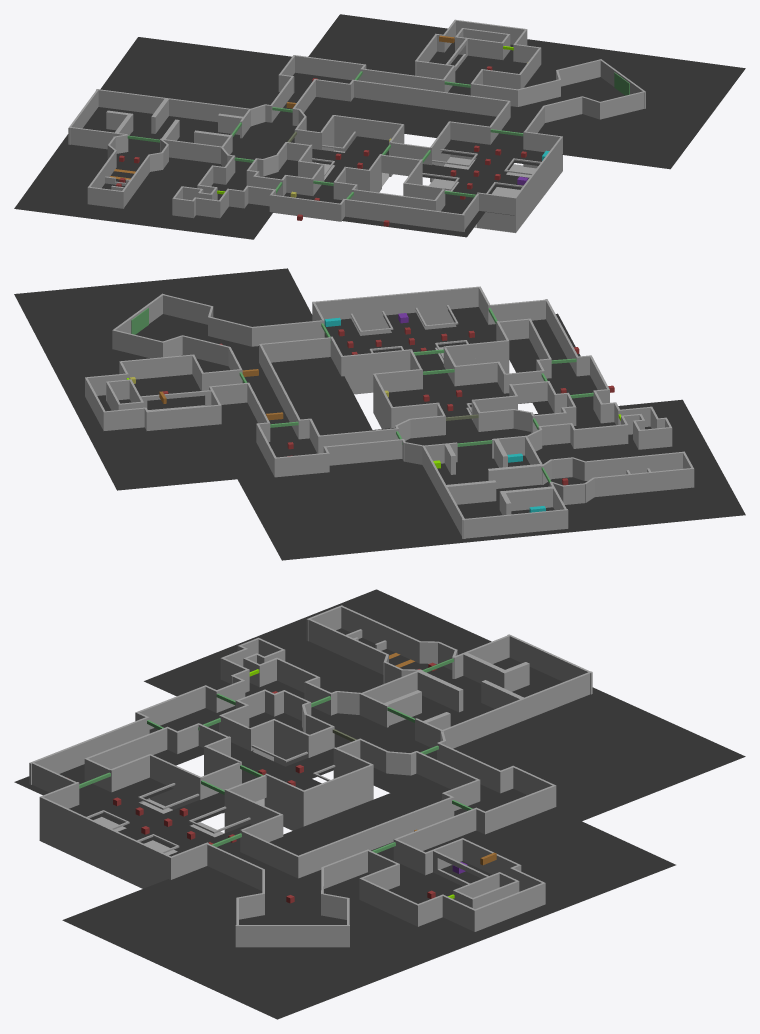
File: LV1_BLOCKOUT.fbx
3 views of the same model, one above another, from view 1: azimuth 30°, elevation 25°; view 2: azimuth 150°, elevation 25°; view 3: azimuth 270°, elevation 25° (orthographic). The views are drawn at different scales.
Visible parts, largest first — view 1: Floor2, Floor1, Floor_Room4_Up, Wall_Hallway20, Wall_Wharehouse4, Wall_Hallway9, Wall_Room4_6, Floor_Room3_Up, Wall_Room3_7, Floor3, Wall_Room2_3, Wall_Room4_5 (+42 smaller); view 2: Floor2, Floor1, Floor_Room4_Up, Wall_Room4_6, Floor3, Wall_Wharehouse3, Floor_Room3_Up, Wall_Tutorial1, Wall_Room4_2, Wall_Tutorial2, Wall_Hallway6, Wall_Room6_6 (+36 smaller); view 3: Floor2, Floor1, Wall_Room4_6, Floor_Room4_Up, Wall_Hallway20, Wall_Wharehouse4, Wall_Exit_Room_5, Wall_Room3_7, Floor3, Wall_Hallway9, Wall_Tutorial2, Wall_Tutorial1 (+37 smaller).
Boxes of the visible parts, <box> form: Floor2: <box>277,14,745,169</box>; Floor1: <box>14,37,355,239</box>; Floor_Room4_Up: <box>423,139,544,215</box>; Wall_Hallway20: <box>353,80,510,117</box>; Wall_Wharehouse4: <box>96,89,249,122</box>; Wall_Hallway9: <box>343,199,464,231</box>; Wall_Room4_6: <box>514,136,562,232</box>; Floor_Room3_Up: <box>312,136,388,182</box>; Wall_Room3_7: <box>334,115,401,151</box>; Floor3: <box>285,181,485,237</box>; Wall_Room2_3: <box>269,194,341,221</box>; Wall_Room4_5: <box>477,192,515,232</box>; Floor2: <box>14,268,390,490</box>; Floor1: <box>219,399,745,560</box>; Floor_Room4_Up: <box>324,307,509,367</box>; Wall_Room4_6: <box>313,286,478,335</box>; Floor3: <box>491,313,597,414</box>; Wall_Wharehouse3: <box>462,509,568,538</box>; Floor_Room3_Up: <box>388,382,504,422</box>; Wall_Tutorial1: <box>594,468,692,496</box>; Wall_Room4_2: <box>341,349,412,394</box>; Wall_Tutorial2: <box>584,451,684,480</box>; Wall_Hallway6: <box>324,439,404,465</box>; Wall_Room6_6: <box>149,404,221,430</box>; Floor2: <box>62,779,675,1019</box>; Floor1: <box>144,589,745,848</box>; Wall_Room4_6: <box>39,797,172,888</box>; Floor_Room4_Up: <box>69,777,252,856</box>; Wall_Hallway20: <box>297,797,454,878</box>; Wall_Wharehouse4: <box>442,671,592,748</box>; Wall_Exit_Room_5: <box>235,925,349,947</box>; Wall_Room3_7: <box>303,765,372,825</box>; Floor3: <box>14,708,253,802</box>; Wall_Hallway9: <box>29,716,148,784</box>; Wall_Tutorial2: <box>307,618,388,674</box>; Wall_Tutorial1: <box>341,606,420,663</box>.
Bounding box in the file's own units: 15070 × 845 × 10836.
